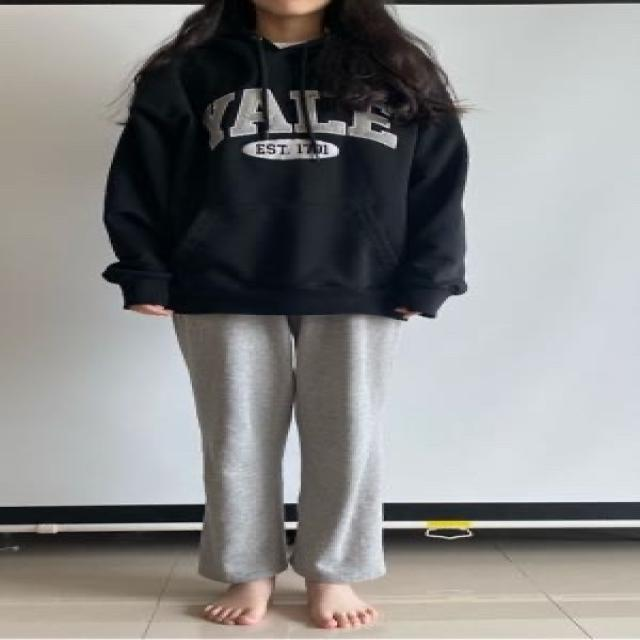hoodies: (99, 19, 471, 315)
trainingpants: (171, 310, 406, 584)
